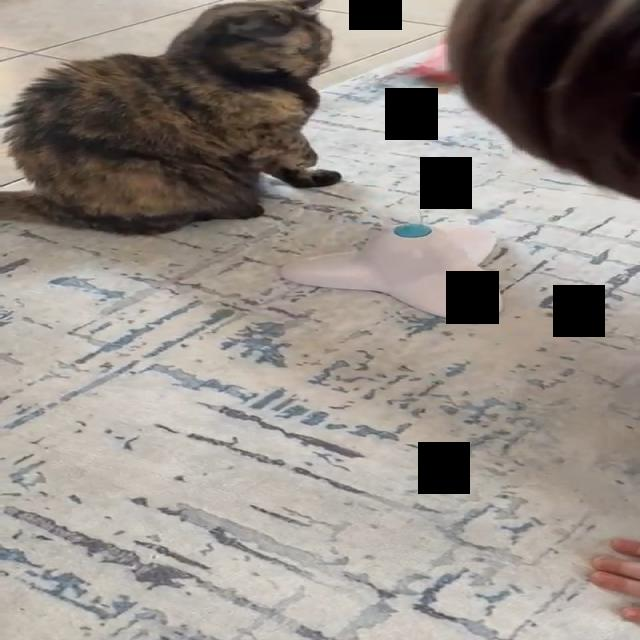authorized: (0, 0, 341, 235)
